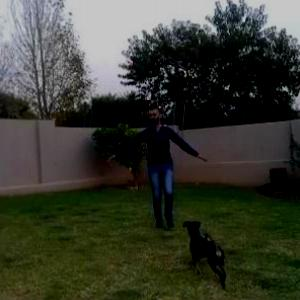land: (88, 102, 214, 254)
